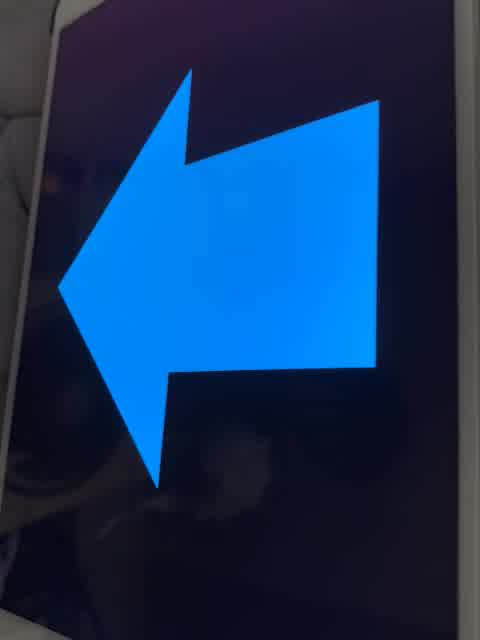left: (55, 53, 389, 491)
